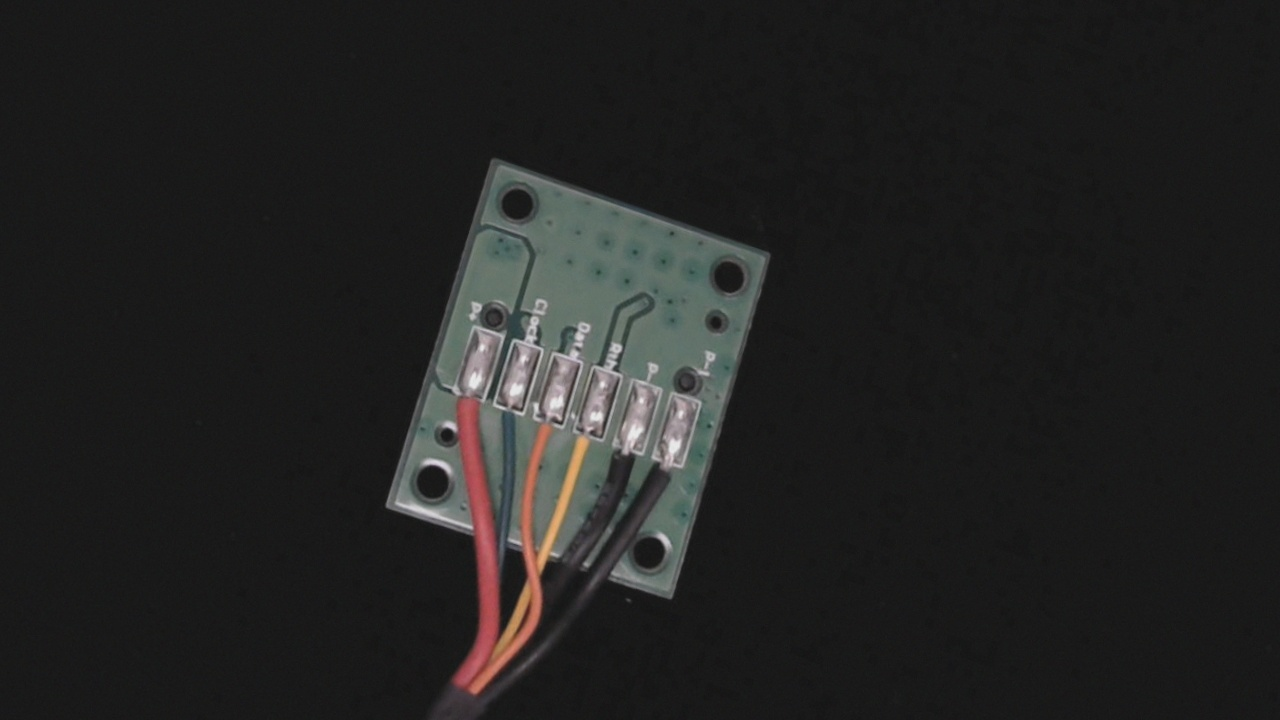Black: (592, 424, 653, 514)
Black1: (634, 440, 692, 523)
Green: (479, 382, 529, 455)
Orange: (513, 401, 570, 486)
Red: (434, 371, 494, 458)
Yellow: (550, 412, 612, 503)
